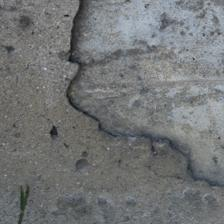Crack: (102, 128, 222, 191), (66, 6, 110, 134)
